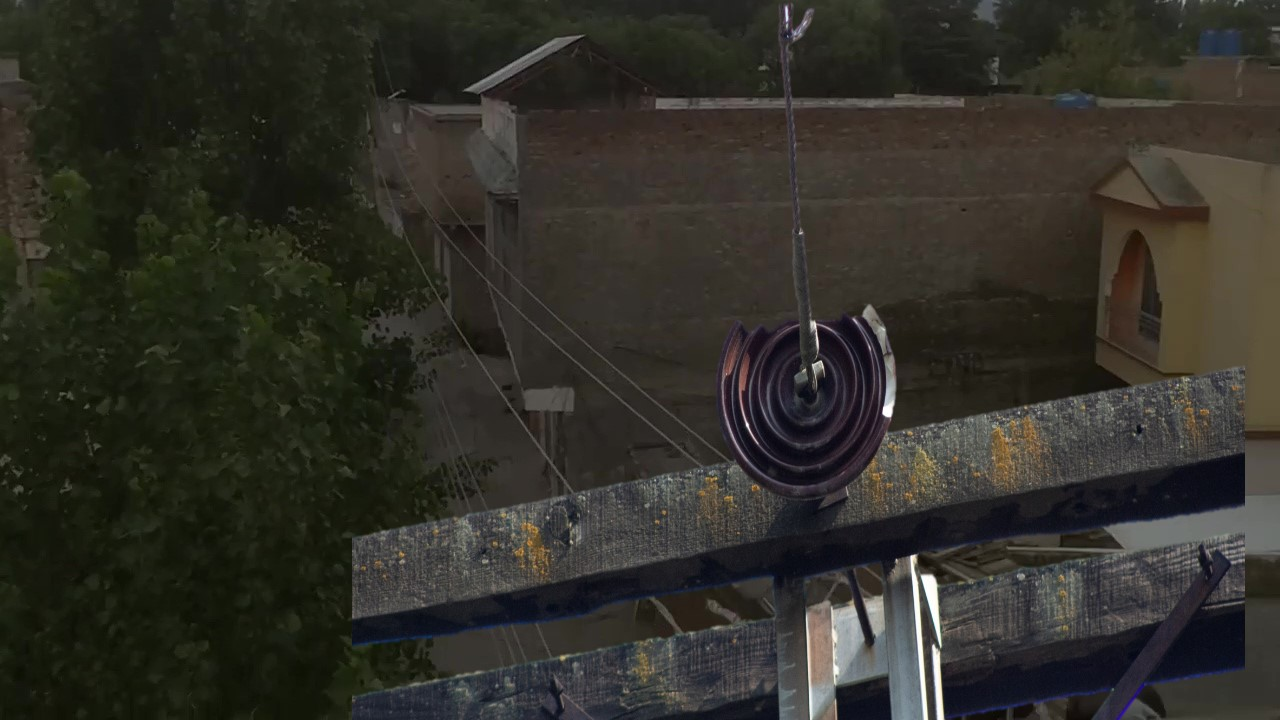defect_disc: (713, 292, 911, 515)
